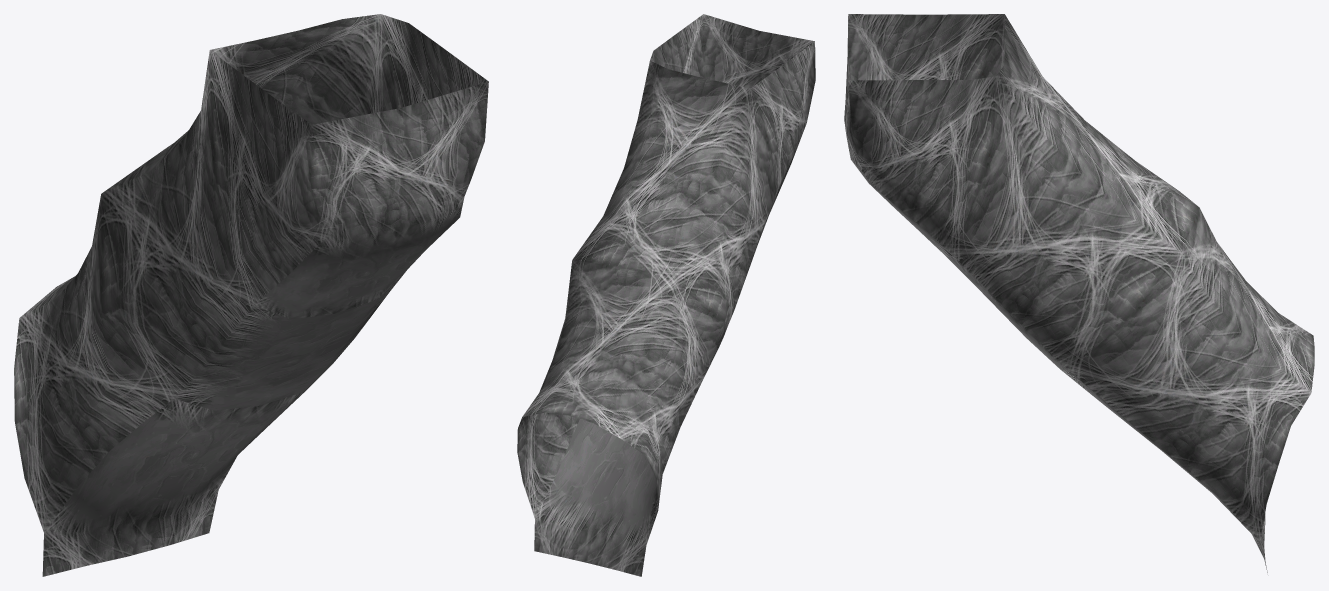
Rendered from SWORDLIGHT20_PS-AREA01_09.fbx.
3 views of the same model, side by side, from view 1: azimuth 30°, elevation 25°; view 2: azimuth 150°, elevation 25°; view 3: azimuth 270°, elevation 25° (orthographic). The views are drawn at different scales.
Visible parts, largest first — view 1: SWORDLIGHT20_PS-AREA01_09; view 2: SWORDLIGHT20_PS-AREA01_09; view 3: SWORDLIGHT20_PS-AREA01_09.
Boxes of the visible parts, x1,y1,x2,y2 form: SWORDLIGHT20_PS-AREA01_09: [14, 14, 488, 576]; SWORDLIGHT20_PS-AREA01_09: [517, 14, 815, 576]; SWORDLIGHT20_PS-AREA01_09: [844, 14, 1314, 572].
Size of the model in its own units: 76197 by 211304 by 180259.
3 materials, 3 textured.
